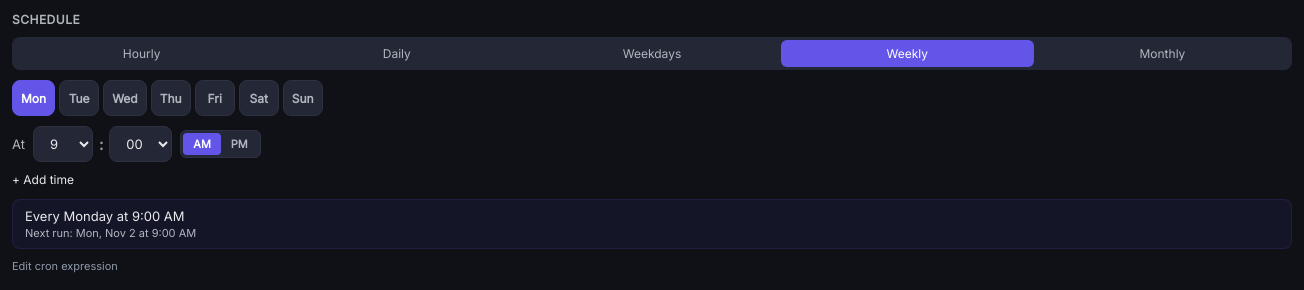
Scenario: ScheduleBuilder › exposes names and selected state for visual controls
The width and height of the screenshot is (1304, 290).
Expected: the dropdown named "Time 1 hour" is shown, [33,126,93,162]
Expected: the dropdown named "Time 1 minute" is shown, [109,126,172,162]
Click the button "Edit cron expression".
click(65, 266)  # box [12,259,118,273]
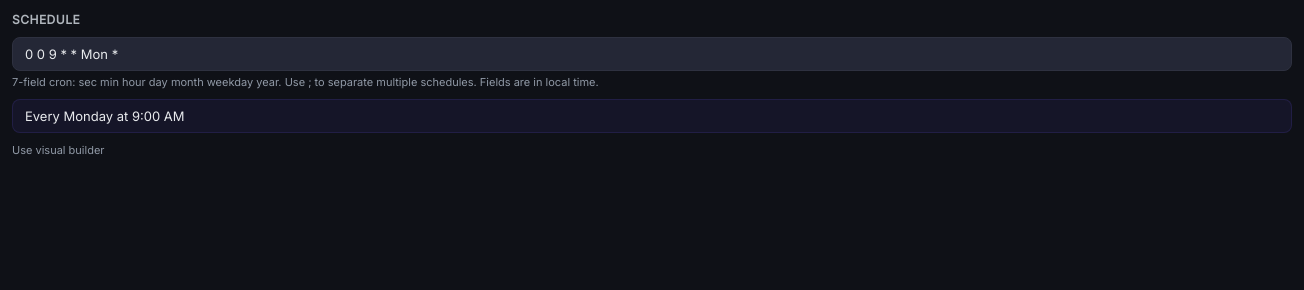
Now the field named "Cron expression" holds "0 0 9 * * Mon *", box [12,37,1292,71]
